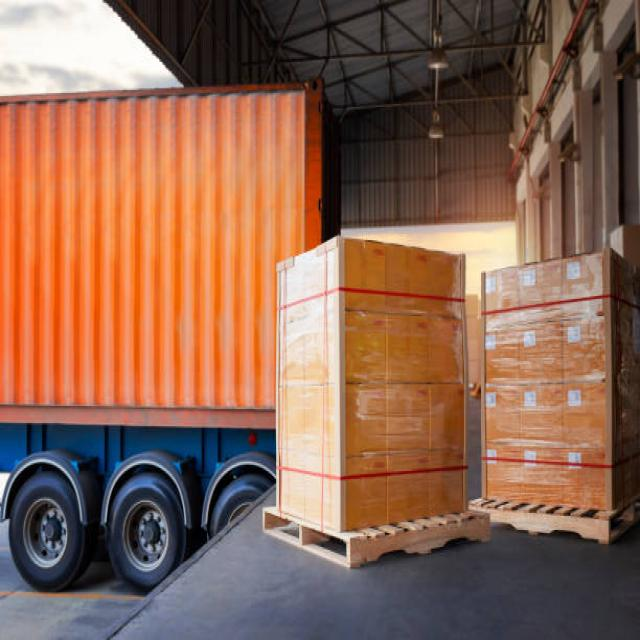Wooden-Pallets: (251, 497, 495, 575), (494, 493, 639, 552)
